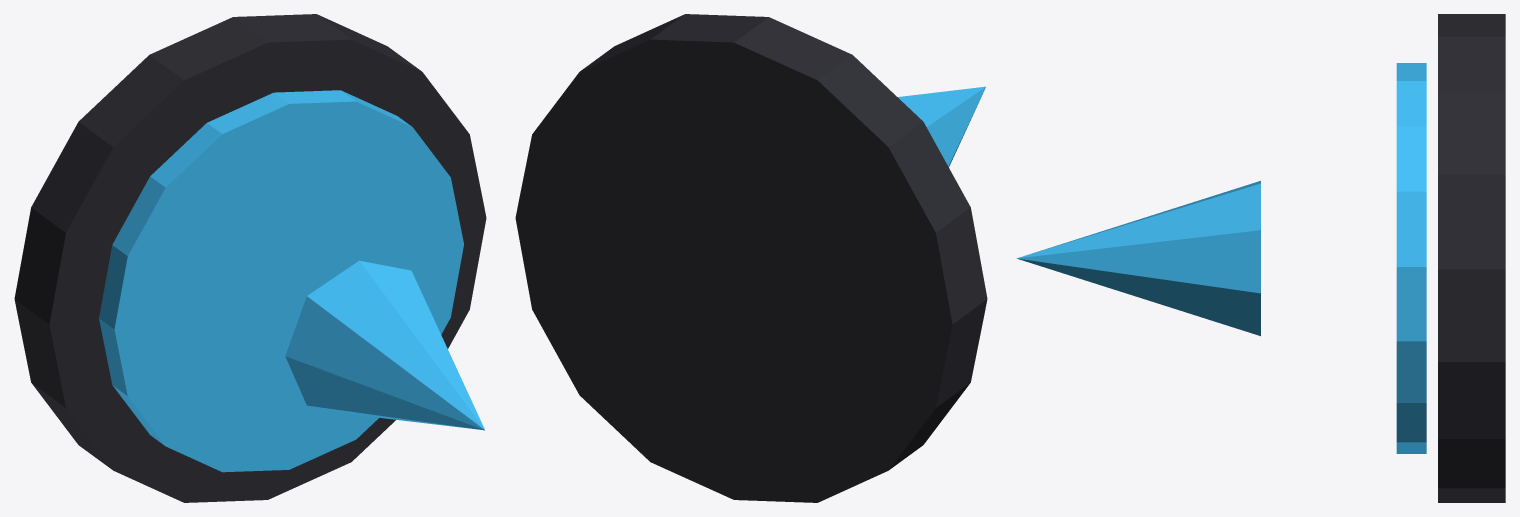
File: jump_pad.glb
The picture shows the model from 3 angles, left to right: view 1: azimuth 30°, elevation 25°; view 2: azimuth 150°, elevation 25°; view 3: azimuth 270°, elevation 25°; orthographic projection. The views are drawn at different scales.
Visible parts, largest first — view 1: pad, base, arrow; view 2: base, arrow; view 3: base, arrow, pad.
Boxes of the visible parts, <box> form: pad: <box>99,90,463,472</box>; base: <box>14,14,486,502</box>; arrow: <box>285,260,484,430</box>; base: <box>515,14,987,502</box>; arrow: <box>898,86,985,167</box>; base: <box>1438,14,1505,502</box>; arrow: <box>1016,180,1260,336</box>; pad: <box>1396,63,1426,453</box>.
Bounding box in the file's own units: 1.3 × 1.3 × 1.3.
